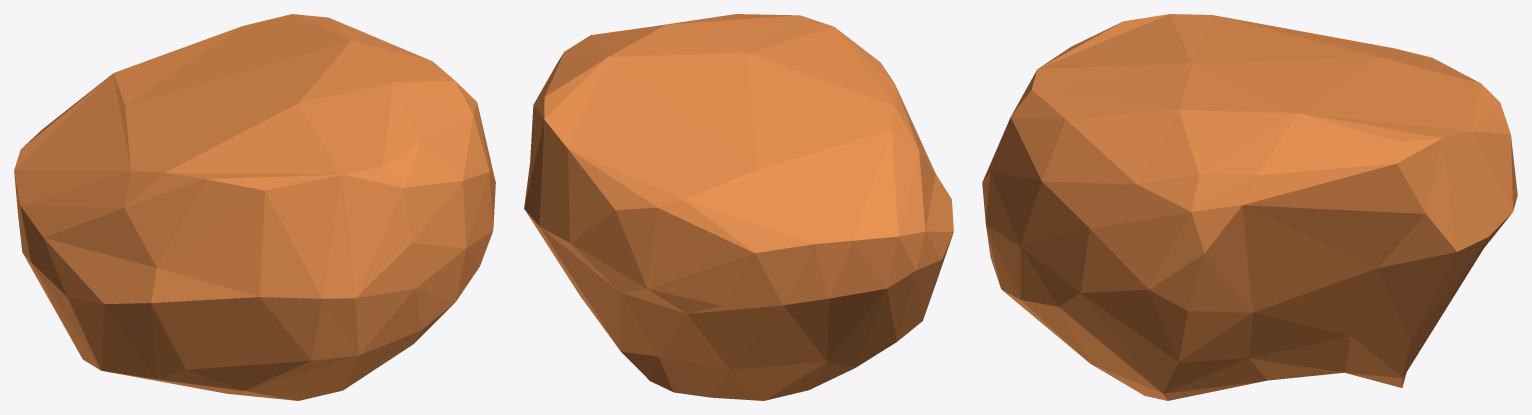
File: Desert_Rock5 (1).fbx
3 renders of one model, left to right at view 1: azimuth 30°, elevation 25°; view 2: azimuth 150°, elevation 25°; view 3: azimuth 270°, elevation 25°, orthographic. The views are drawn at different scales.
Visible parts, largest first — view 1: Sphere.003; view 2: Sphere.003; view 3: Sphere.003.
Boxes of the visible parts, bbox=[...] form: Sphere.003: bbox=[14, 14, 495, 400]; Sphere.003: bbox=[524, 14, 953, 400]; Sphere.003: bbox=[982, 14, 1517, 400].
Bounding box in the file's own units: 185 × 127 × 183.
